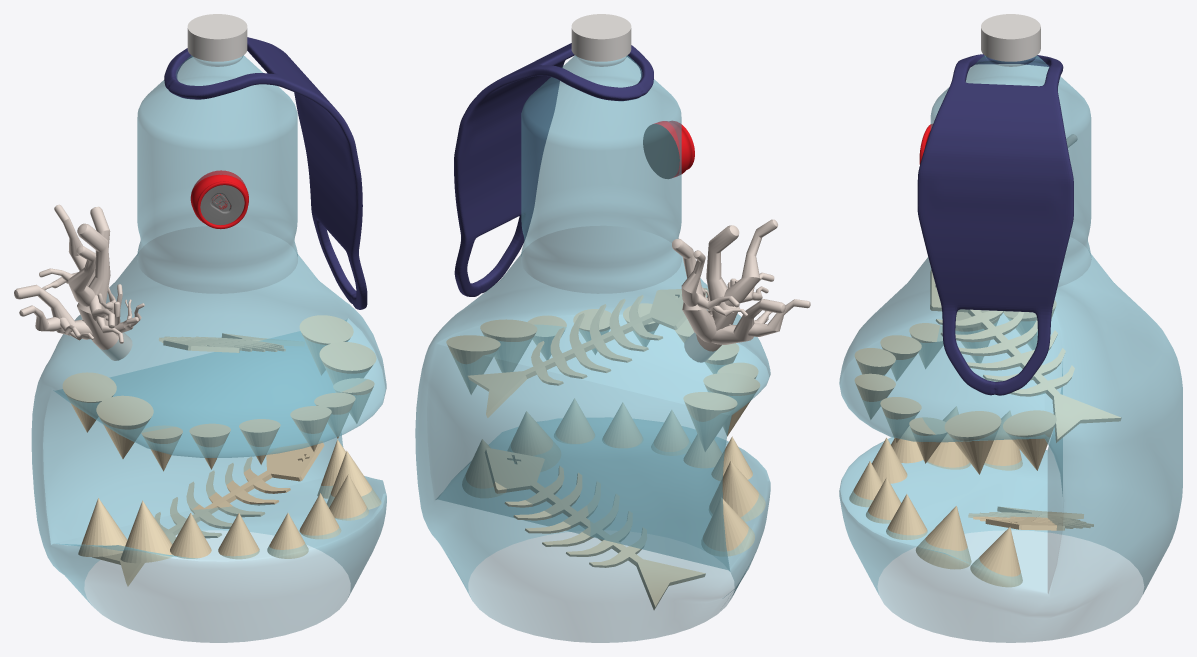
Rendered from fish_bossSemiFinal.fbx.
3 views of the same model, side by side, from view 1: azimuth 30°, elevation 25°; view 2: azimuth 150°, elevation 25°; view 3: azimuth 270°, elevation 25° (orthographic).
Visible parts, largest first — view 1: Bottle, Lower teeth, Mask, Coral, Fish.002, Cube, Cap, Fish.001, Coral.001; view 2: Bottle, Lower teeth, Mask, Coral, Fish.002, Fish.001, Cap, Cube; view 3: Bottle, Mask, Lower teeth, Fish.001, Cap, Fish.002.
Boxes of the visible parts, x1=… form: Bottle: x1=31, y1=55, x2=386, y2=642; Lower teeth: x1=62, y1=315, x2=381, y2=563; Mask: x1=164, y1=37, x2=367, y2=309; Coral: x1=14, y1=204, x2=132, y2=360; Fish.002: x1=92, y1=441, x2=324, y2=586; Cube: x1=190, y1=170, x2=248, y2=229; Cap: x1=187, y1=14, x2=247, y2=61; Fish.001: x1=159, y1=333, x2=304, y2=352; Coral.001: x1=82, y1=284, x2=144, y2=335; Bottle: x1=415, y1=55, x2=770, y2=642; Lower teeth: x1=446, y1=303, x2=765, y2=556; Mask: x1=454, y1=43, x2=653, y2=296; Coral: x1=672, y1=219, x2=810, y2=362; Fish.002: x1=485, y1=448, x2=705, y2=609; Fish.001: x1=468, y1=288, x2=708, y2=417; Cap: x1=571, y1=14, x2=631, y2=61; Cube: x1=643, y1=121, x2=694, y2=178; Bottle: x1=839, y1=55, x2=1182, y2=642; Mask: x1=917, y1=54, x2=1073, y2=395; Lower teeth: x1=849, y1=300, x2=1056, y2=587; Fish.001: x1=930, y1=270, x2=1121, y2=442; Cap: x1=981, y1=14, x2=1040, y2=61; Fish.002: x1=968, y1=506, x2=1093, y2=530.
Bounding box in the file's own units: 503 × 766 × 426.
